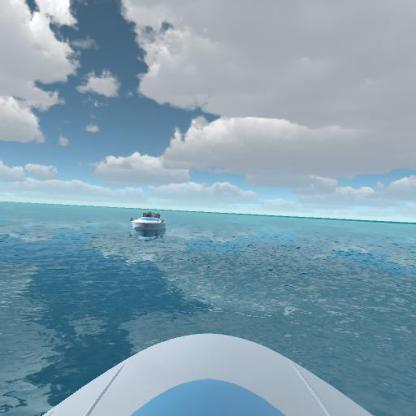usv1: (128, 205, 170, 240)
